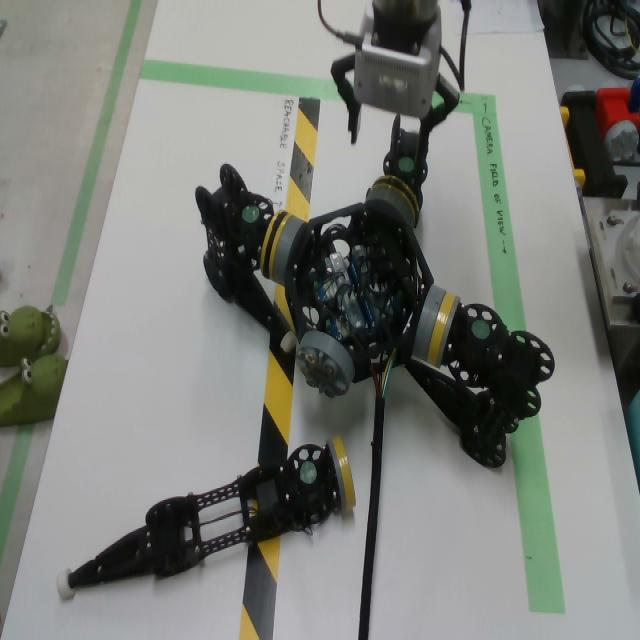body: (286, 204, 435, 384)
body_connector: (299, 332, 355, 399), (411, 285, 446, 361), (272, 216, 307, 288), (365, 189, 415, 228)
gripper: (331, 55, 461, 164)
leg: (57, 435, 357, 600), (405, 292, 555, 468), (195, 164, 297, 353), (365, 115, 430, 229)
leg_connector: (427, 292, 460, 368), (372, 175, 420, 227), (327, 436, 356, 513), (260, 209, 290, 281)
leg_marker: (300, 461, 317, 483), (472, 320, 490, 339), (242, 207, 258, 221), (399, 157, 414, 171)
